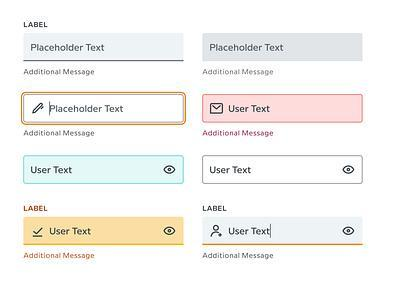icon: (209, 222, 226, 240), (209, 103, 226, 116), (31, 101, 45, 116), (33, 226, 46, 241), (342, 225, 358, 237), (163, 225, 178, 237), (343, 164, 357, 176), (163, 164, 178, 175)
input: (22, 93, 187, 126), (203, 33, 364, 63), (24, 156, 185, 186), (24, 217, 185, 247), (22, 34, 185, 63), (203, 156, 363, 184), (204, 218, 364, 245), (204, 95, 363, 122)
label: (24, 205, 49, 213), (203, 206, 228, 214), (24, 22, 49, 29)
